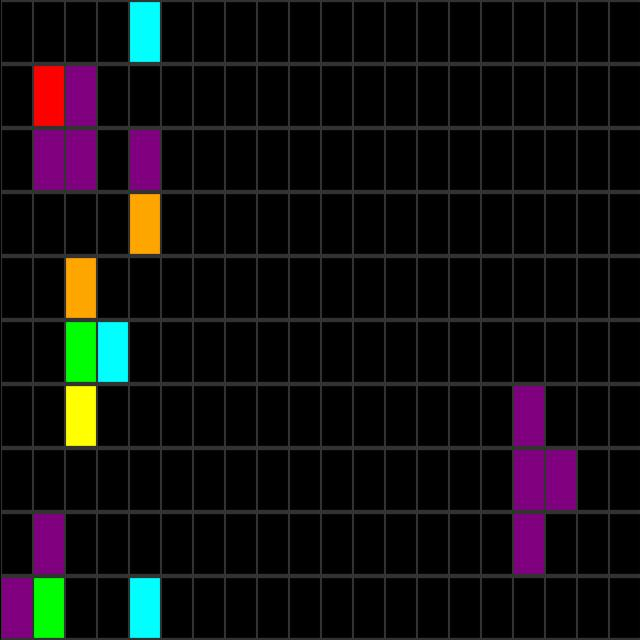Tetrimino_J: (513, 386, 575, 576)
